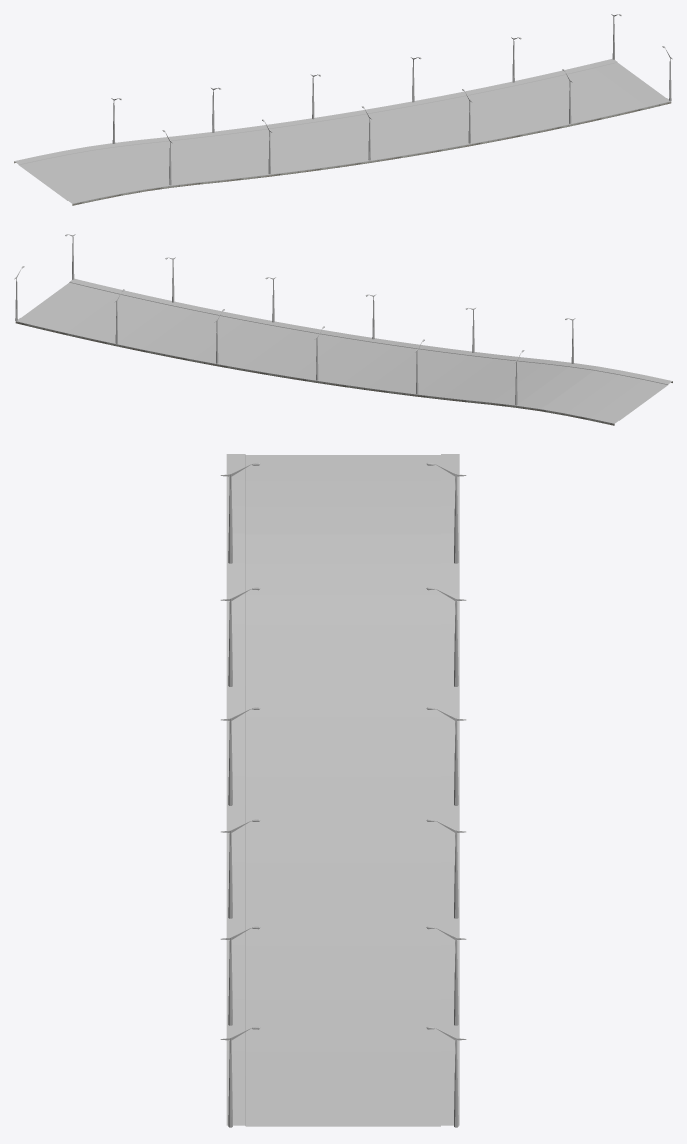
Rendered from Big_Road_UP_10_2.FBX.
3 renders of one model, top to bottom at view 1: azimuth 30°, elevation 25°; view 2: azimuth 150°, elevation 25°; view 3: azimuth 270°, elevation 25°, orthographic. The views are drawn at different scales.
Visible parts, largest first — view 1: Big_Road_up_10_2; view 2: Big_Road_up_10_2; view 3: Big_Road_up_10_2.
Part boxes in pixels (<box>): Big_Road_up_10_2: <box>14,58,671,205</box>; Big_Road_up_10_2: <box>15,278,672,425</box>; Big_Road_up_10_2: <box>226,454,459,1126</box>.
Bounding box in the file's own units: 13487 × 1921 × 2394.
